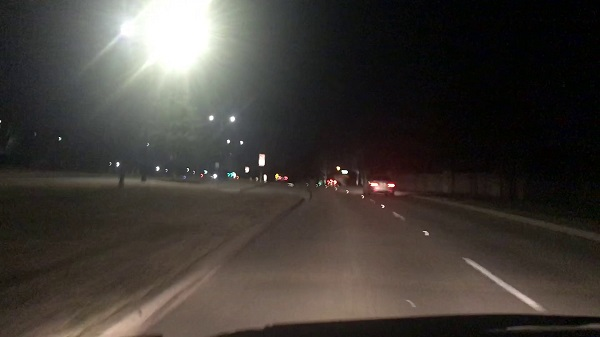car: (364, 171, 395, 197), (320, 176, 341, 190), (272, 171, 289, 185)
